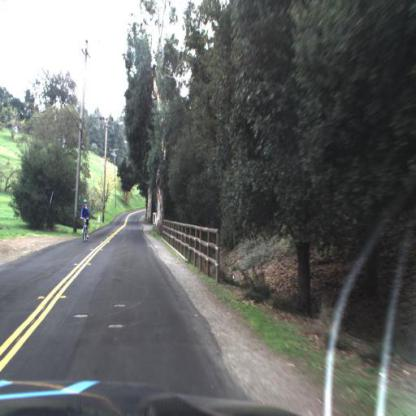biker: (79, 197, 94, 244)
